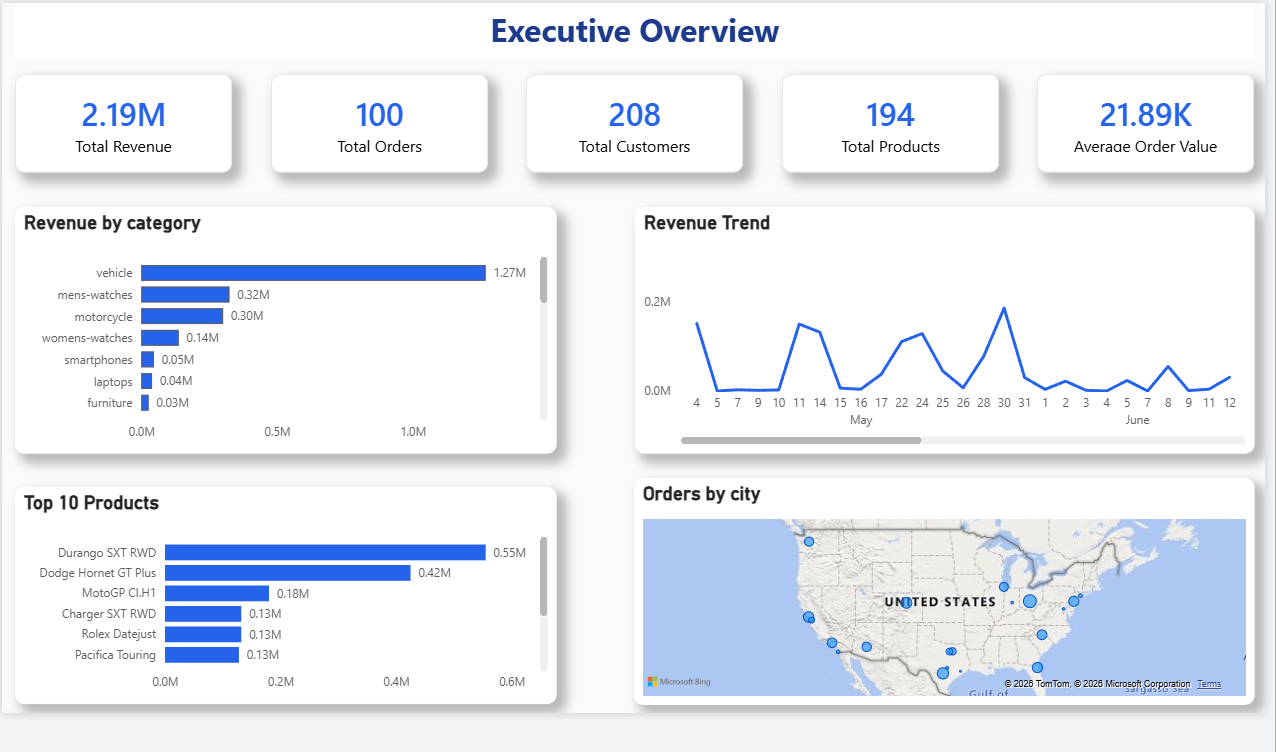

Layout of this report page (visuals, bound fields, positions):
{"tool":"powerbi","page":{"name":"Executive Overview","canvas":[1280,720],"ordinal":0},"visuals":[{"type":"cardVisual","fields":{"Data":["analytics fact_orders.Total Revenue"]},"box":[13.1,71.6,220,100],"z":0},{"type":"cardVisual","fields":{"Data":["analytics fact_orders.Total Orders"]},"box":[272.1,71.6,220,100],"z":1000},{"type":"cardVisual","fields":{"Data":["analytics fact_orders.Total Customers"]},"box":[531.1,71.6,220,100],"z":2000},{"type":"cardVisual","fields":{"Data":["analytics fact_orders.Total Products"]},"box":[790.2,71.6,220,100],"z":3000},{"type":"cardVisual","fields":{"Data":["analytics fact_orders.Average Order Value"]},"box":[1049.2,71.6,220,100],"z":4000},{"type":"clusteredBarChart","title":"Revenue by category","fields":{"Category":["analytics fact_orders.category"],"Y":["analytics fact_orders.Total Revenue"]},"box":[13,207,548.9,249.6],"z":5000},{"type":"lineChart","title":"Revenue Trend","fields":{"Y":["analytics fact_orders.Total Revenue"],"Category":["analytics fact_orders.order_date.Variation.Date Hierarchy.Month","analytics fact_orders.order_date.Variation.Date Hierarchy.Day"]},"box":[641.2,207,628.2,249.6],"z":6000},{"type":"clusteredBarChart","title":"Top 10 Products","fields":{"Category":["analytics fact_orders.product_name"],"Y":["analytics fact_orders.Total Revenue"]},"box":[13,490.9,548.9,220],"z":7000},{"type":"map","title":"Orders by city","fields":{"Category":["analytics fact_orders.city"],"Size":["analytics fact_orders.Total Revenue"]},"box":[640,481.5,629.4,229.5],"z":8000},{"type":"textbox","box":[13,0,1256.3,55.6],"z":9000}]}

Visuals, with their boxes on the page's 1280x720 design canvas (x1, y1, x2, y2). These are canvas units, not pixel positions in the 1276x752 screenshot, which may show the page scaled, cropped or inside an application window:
cardVisual - analytics fact_orders.Total Revenue: 13 72 233 172
cardVisual - analytics fact_orders.Total Orders: 272 72 492 172
cardVisual - analytics fact_orders.Total Customers: 531 72 751 172
cardVisual - analytics fact_orders.Total Products: 790 72 1010 172
cardVisual - analytics fact_orders.Average Order Value: 1049 72 1269 172
"Revenue by category" clusteredBarChart: 13 207 562 457
"Revenue Trend" lineChart: 641 207 1269 457
"Top 10 Products" clusteredBarChart: 13 491 562 711
"Orders by city" map: 640 482 1269 711
textbox: 13 0 1269 56
